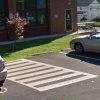crosswalk: (0, 59, 95, 89)
